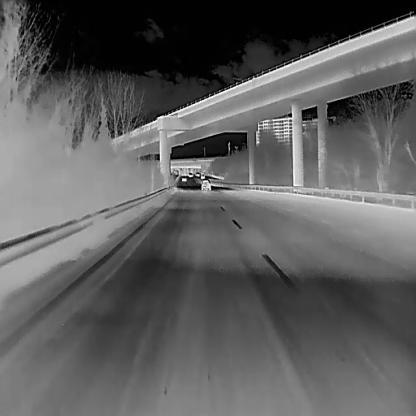car: (201, 179, 211, 190), (181, 176, 186, 181), (195, 172, 200, 177), (188, 172, 192, 177), (200, 173, 204, 178)
